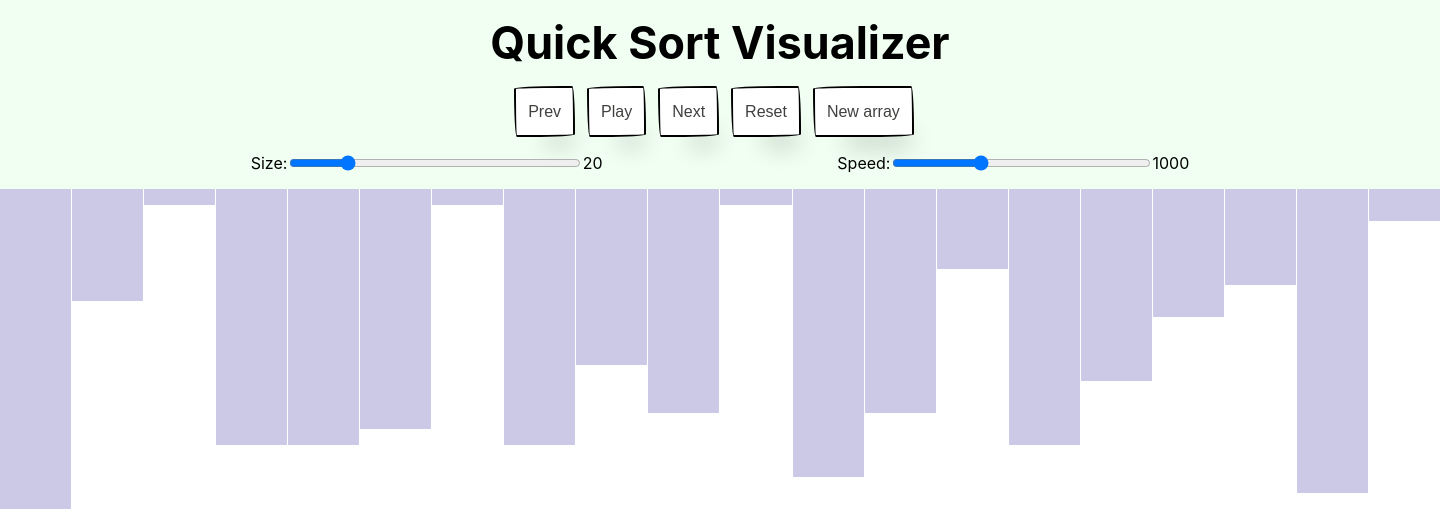
Scenario: Visualizer › should display Pause after click Play button
Click the button with test id "playPauseBtn".
click(617, 112)  # box [587,86,646,137]
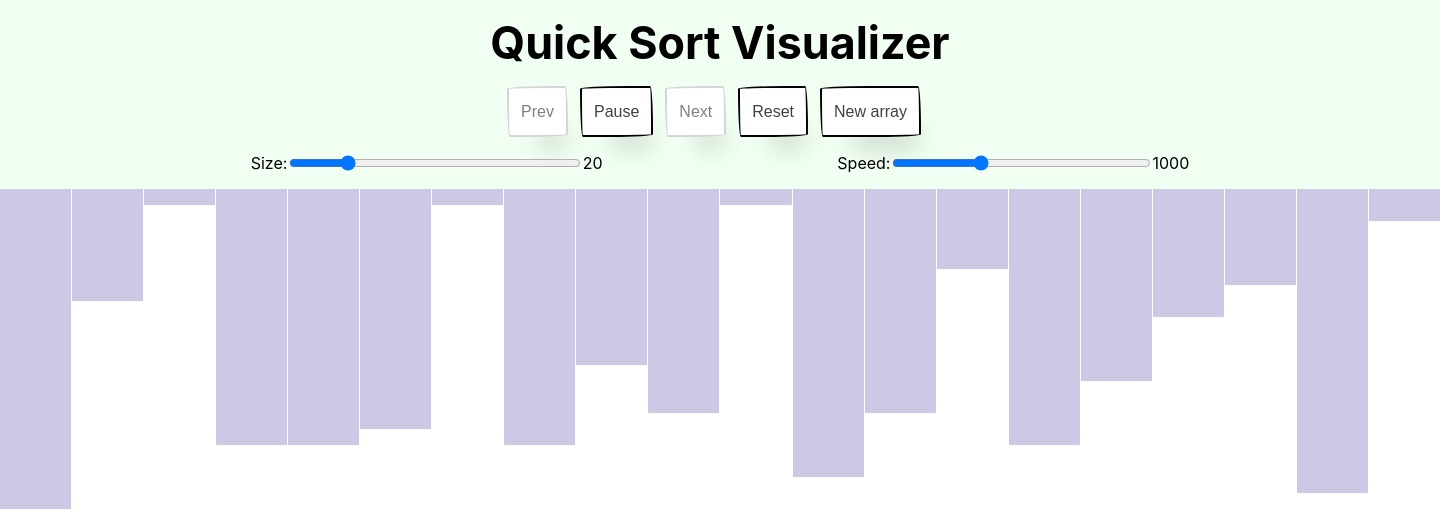
Check: the button with test id "playPauseBtn" reads "Pause", box [580,86,653,137]
